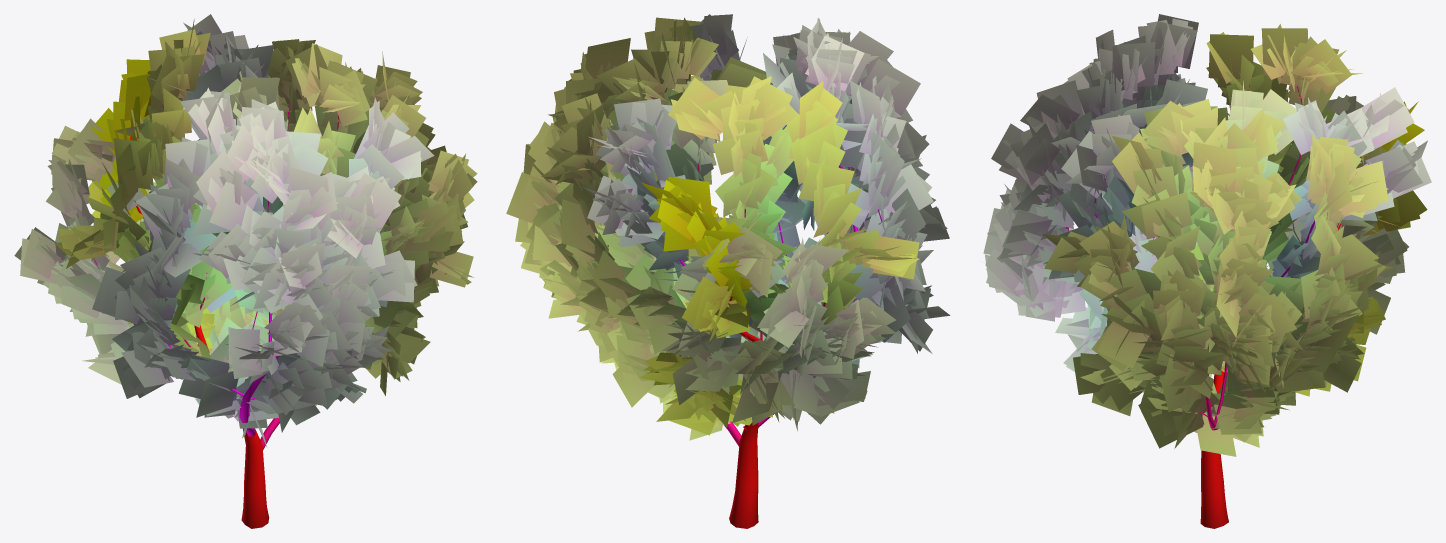
The model's file is acacia.glb.
3 views of the same model, side by side, from view 1: azimuth 30°, elevation 25°; view 2: azimuth 150°, elevation 25°; view 3: azimuth 270°, elevation 25° (orthographic). The views are drawn at different scales.
Visible parts, largest first — view 1: acacia; view 2: acacia; view 3: acacia.
Part boxes in pixels (box(x1,y1,x2,y2)): acacia: box(14, 14, 477, 528); acacia: box(506, 14, 950, 528); acacia: box(983, 14, 1431, 528).
Size of the model in its own units: 12 by 13.49 by 11.5.
